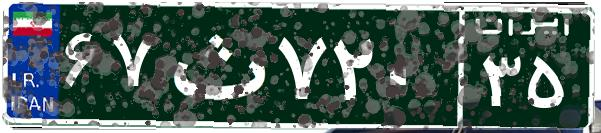0: (385, 28, 445, 110)
2: (330, 28, 385, 110)
3: (475, 38, 525, 113)
5: (525, 38, 570, 115)
6: (57, 26, 110, 107)
7: (273, 28, 330, 110), (110, 28, 158, 105)
ث: (158, 15, 273, 115)
